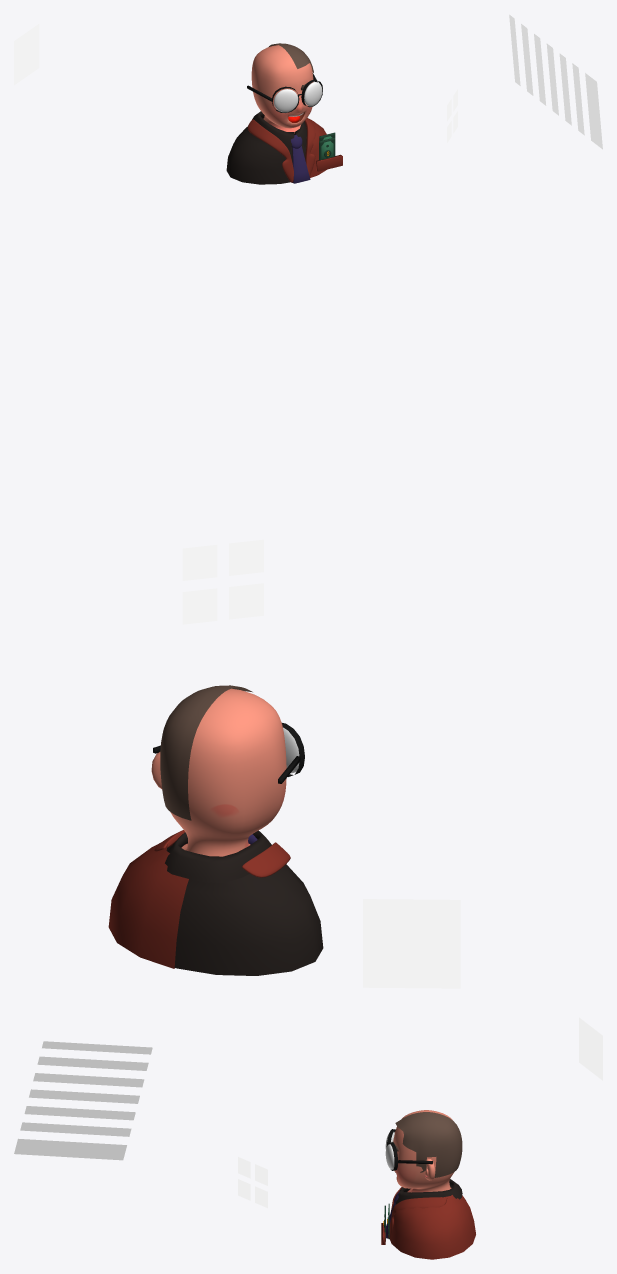
File: person.gltf
3 renders of one model, top to bottom at view 1: azimuth 30°, elevation 25°; view 2: azimuth 150°, elevation 25°; view 3: azimuth 270°, elevation 25°, orthographic. The views are drawn at different scales.
Parts seen in each view (by area): view 1: Plane.002, Cube, Cube.076, Cube.004, Plane, Sphere, Cube.002, Cube.075, Cube.003, Plane.001, Cube.012, Cube.080; view 2: Cube.076, Cube, Plane, Cube.003, Plane.001, Cube.075, Cube.004; view 3: Plane.002, Cube.003, Cube.075, Cube, Plane, Plane.001, Cube.004, Cube.076.
Part boxes in pixels (<box>): Plane.002: <box>509,14,602,149</box>; Cube: <box>251,45,313,133</box>; Cube.076: <box>226,111,306,184</box>; Cube.004: <box>247,118,315,182</box>; Plane: <box>14,24,39,85</box>; Sphere: <box>274,82,322,112</box>; Cube.002: <box>292,146,310,183</box>; Cube.075: <box>269,43,313,72</box>; Cube.003: <box>308,118,326,177</box>; Plane.001: <box>447,89,457,142</box>; Cube.012: <box>316,154,342,171</box>; Cube.080: <box>272,79,322,112</box>; Cube.076: <box>165,830,323,975</box>; Cube: <box>170,688,286,856</box>; Plane: <box>363,899,460,988</box>; Cube.003: <box>108,842,188,968</box>; Plane.001: <box>182,539,263,624</box>; Cube.075: <box>160,685,252,820</box>; Cube.004: <box>154,830,290,877</box>; Plane.002: <box>14,1041,152,1160</box>; Cube.003: <box>390,1195,475,1259</box>; Cube.075: <box>395,1112,462,1177</box>; Cube: <box>393,1110,454,1192</box>; Plane: <box>579,1017,602,1080</box>; Plane.001: <box>238,1157,267,1208</box>; Cube.004: <box>388,1187,447,1238</box>; Cube.076: <box>395,1179,462,1204</box>.
Bounding box in the file's own units: 21.46 × 13.08 × 29.85.
19 materials, 2 textured.
